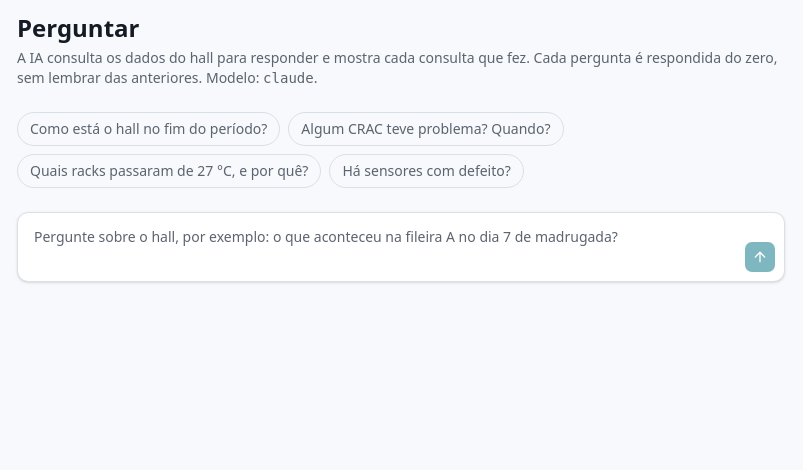
Test: Perguntar › mostra as consultas, a resposta em markdown e o custo
Replace the text in the text box named "Sua pergunta" with "Quantos racks?" at (381, 247), box [26, 221, 736, 273]
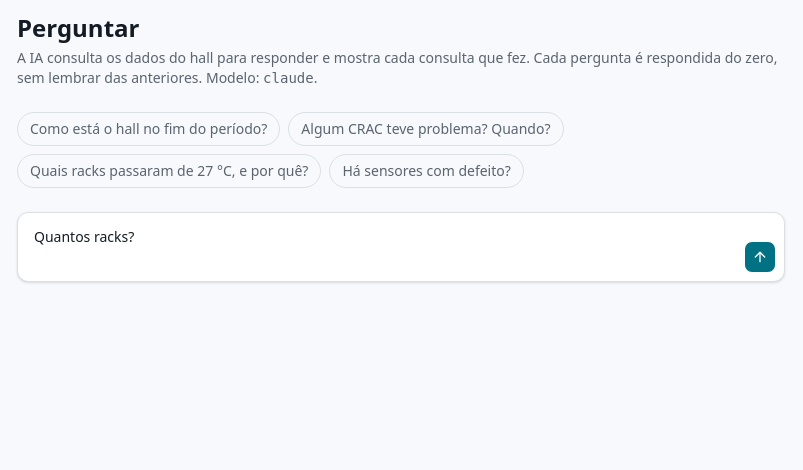
Click the button named "Enviar pergunta".
click(760, 257)  # box [744, 241, 776, 273]
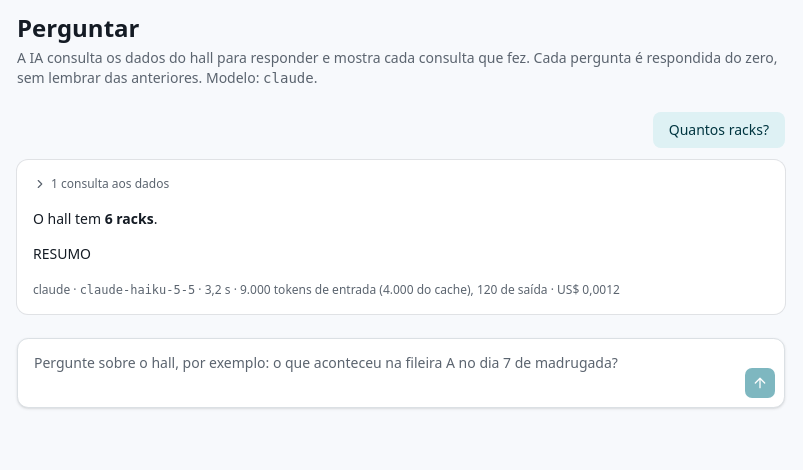
Expected: the text "Quantos racks?" is shown, [653, 112, 785, 148]
Expected: the text "US$ 0,0012" is shown, [557, 280, 620, 298]
Click the button "1 consulta aos dados".
click(101, 184)  # box [33, 176, 169, 192]
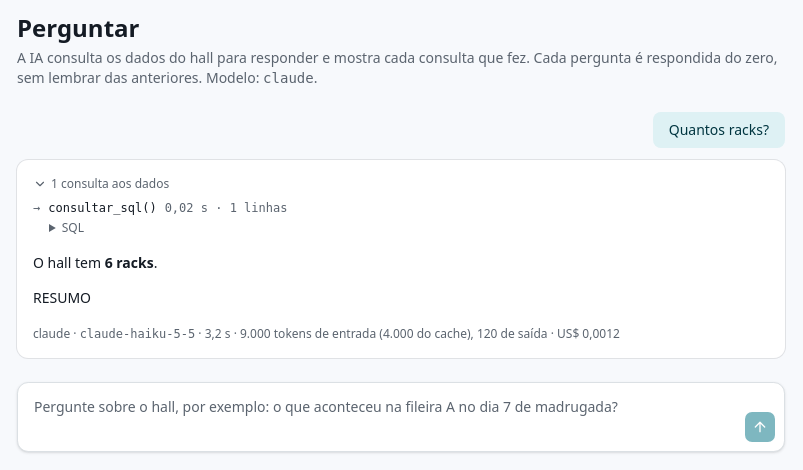
Expected: the text "consultar_sql()" is shown, [48, 200, 157, 216]
